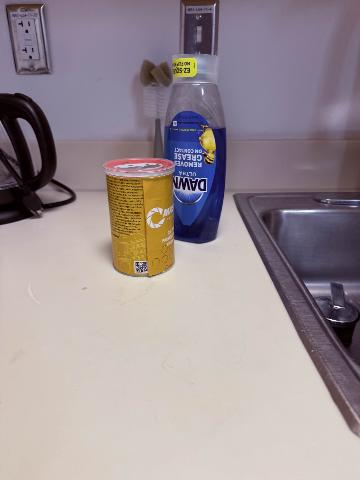Golden Can: (104, 159, 174, 276)
